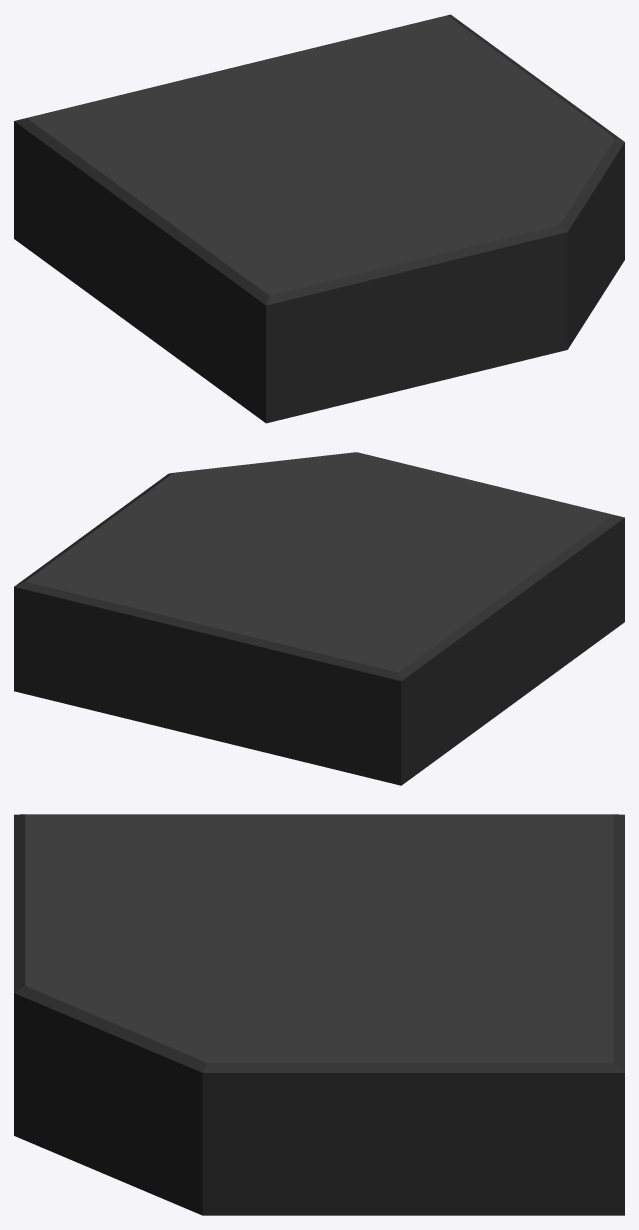
Rendered from Bottom_A2.fbx.
3 views of the same model, one above another, from view 1: azimuth 30°, elevation 25°; view 2: azimuth 150°, elevation 25°; view 3: azimuth 270°, elevation 25° (orthographic). The views are drawn at different scales.
Visible parts, largest first — view 1: Bottom_A2; view 2: Bottom_A2; view 3: Bottom_A2.
Part boxes in pixels (left/top/right/bottom): Bottom_A2: left=14, top=14, right=624, bottom=423; Bottom_A2: left=14, top=452, right=624, bottom=785; Bottom_A2: left=14, top=814, right=624, bottom=1215.
Size of the model in its own units: 623 by 167 by 623.
1 material, 1 textured.
